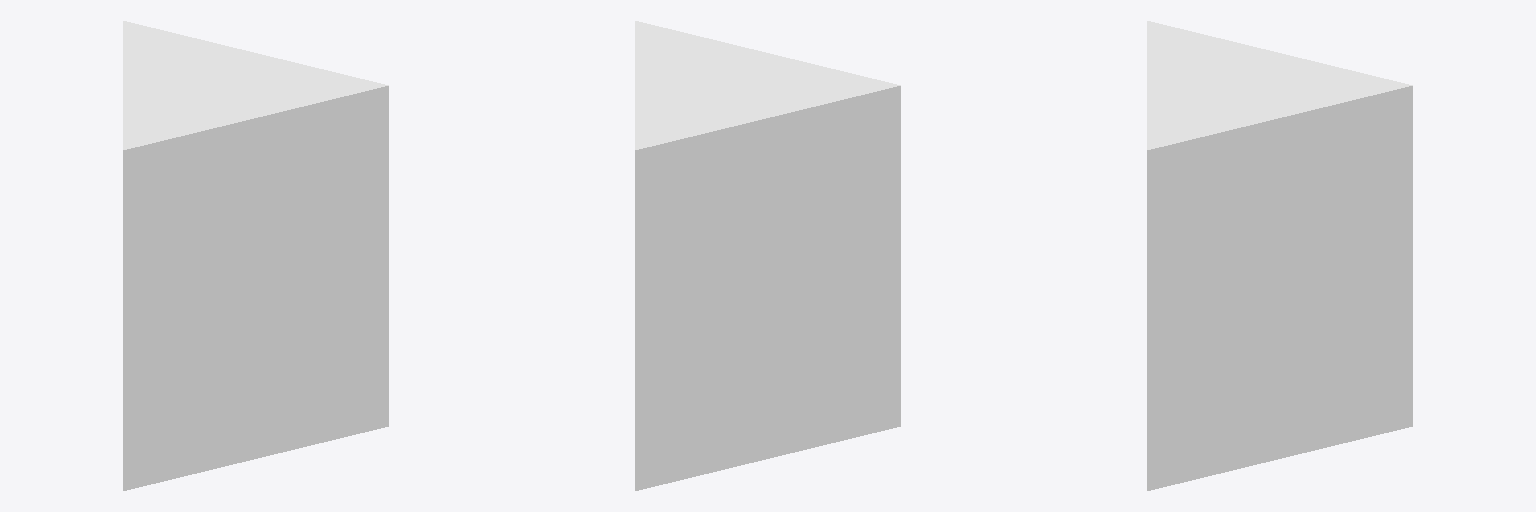
The robot description file, URDF, robot "tool9x9":
<?xml version="1.0" ?>
<robot name="tool9x9">
  <link name="tool9x9">
    <visual>
      <geometry>
        <mesh filename="TriangleTool9x9.stl" scale="1 1 1" />
      </geometry>
      <material name="white">
        <color rgba="1 1 1 1"/>
      </material>
    </visual>
    <collision>
      <geometry>
        <mesh filename="TriangleTool9x9.stl" scale="1 1 1" />
      </geometry>
    </collision>
    <inertial>
      <mass value="0.001" />
      <inertia ixx="1" ixy="0" ixz="0" iyy="1" iyz="0" izz="1" />
    </inertial>
  </link>
</robot>

--- What the picture shows (computed from the rendered views, not written in the file) ---
Views: 3 orthographic renders of the robot side by side, from view 1: azimuth 30°, elevation 25°; view 2: azimuth 150°, elevation 25°; view 3: azimuth 270°, elevation 25°.
Model tool9x9 with 1 links and 0 joints (none), rooted at tool9x9, posed all joints at 0.
Links seen in each view (by area): view 1: tool9x9; view 2: tool9x9; view 3: tool9x9.
Boxes of the visible links, left/top/right/bottom form: tool9x9: left=123, top=21, right=388, bottom=490; tool9x9: left=635, top=21, right=900, bottom=490; tool9x9: left=1147, top=21, right=1412, bottom=490.
Bounding box of the posed robot: 0.0819 × 0.0709 × 0.1 m (x, y, z).
1 mesh visuals loaded from 1 distinct referenced files (1 binary STL).